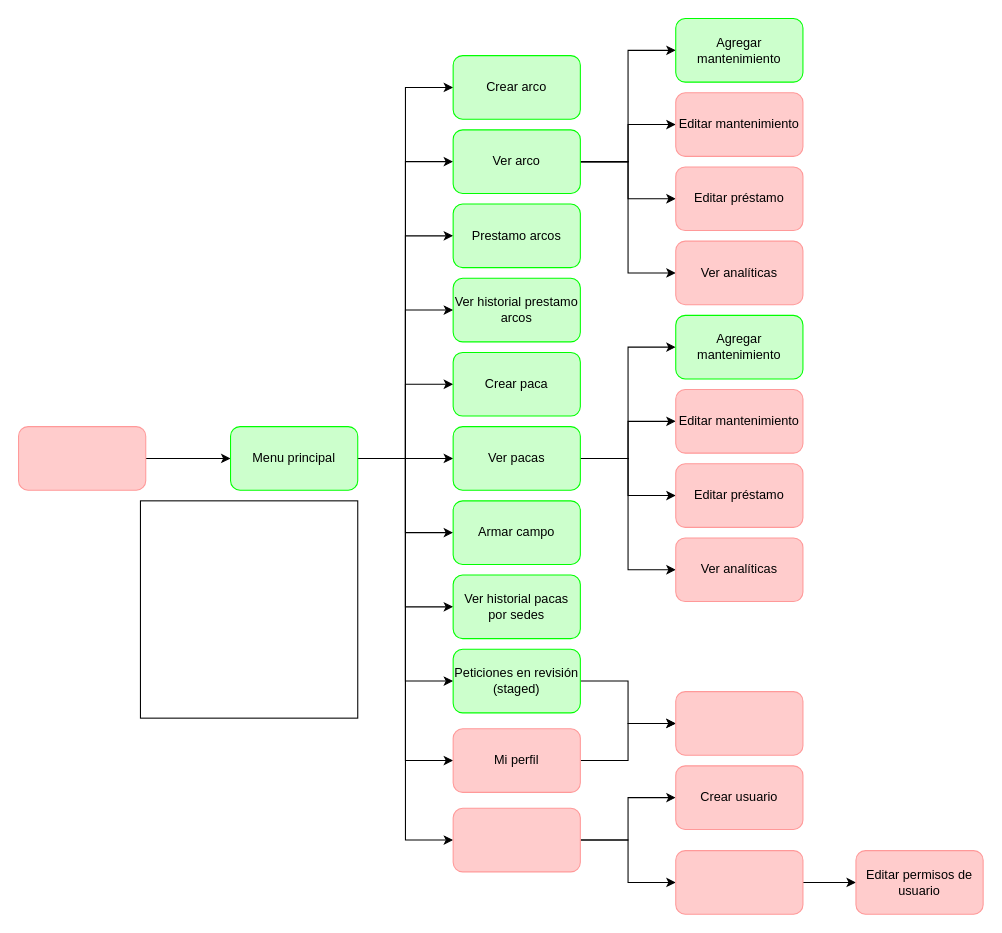
This 1002x933 diagram has some shape labels left out. The box of each missing label's shape, as (x1, y1, x2, y2) in pixels:
Editar usuario: (675, 850, 803, 914)
Gestión de usuario: (452, 807, 580, 872)
Login: (17, 426, 146, 490)
No hay restricciones de acceso implementadas para la versión 0.7.2: (139, 500, 358, 718)
Ver historial de actualizaciones: (675, 691, 803, 755)
